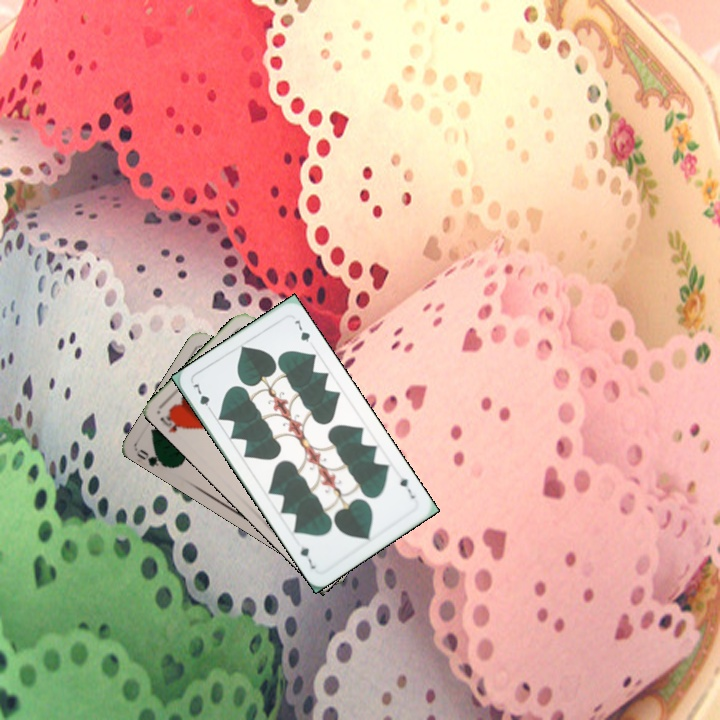G7: (188, 378, 215, 415), (395, 473, 418, 501)
GO: (133, 445, 174, 471)
HO: (156, 406, 190, 435)
